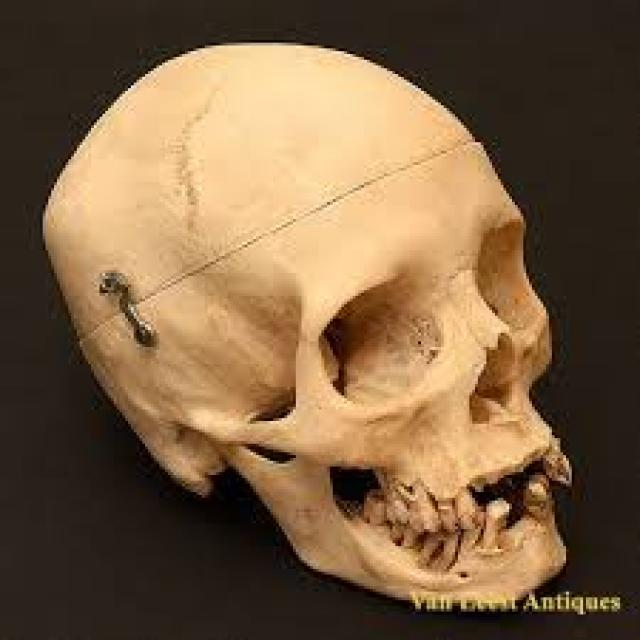skull: (28, 25, 637, 640)
